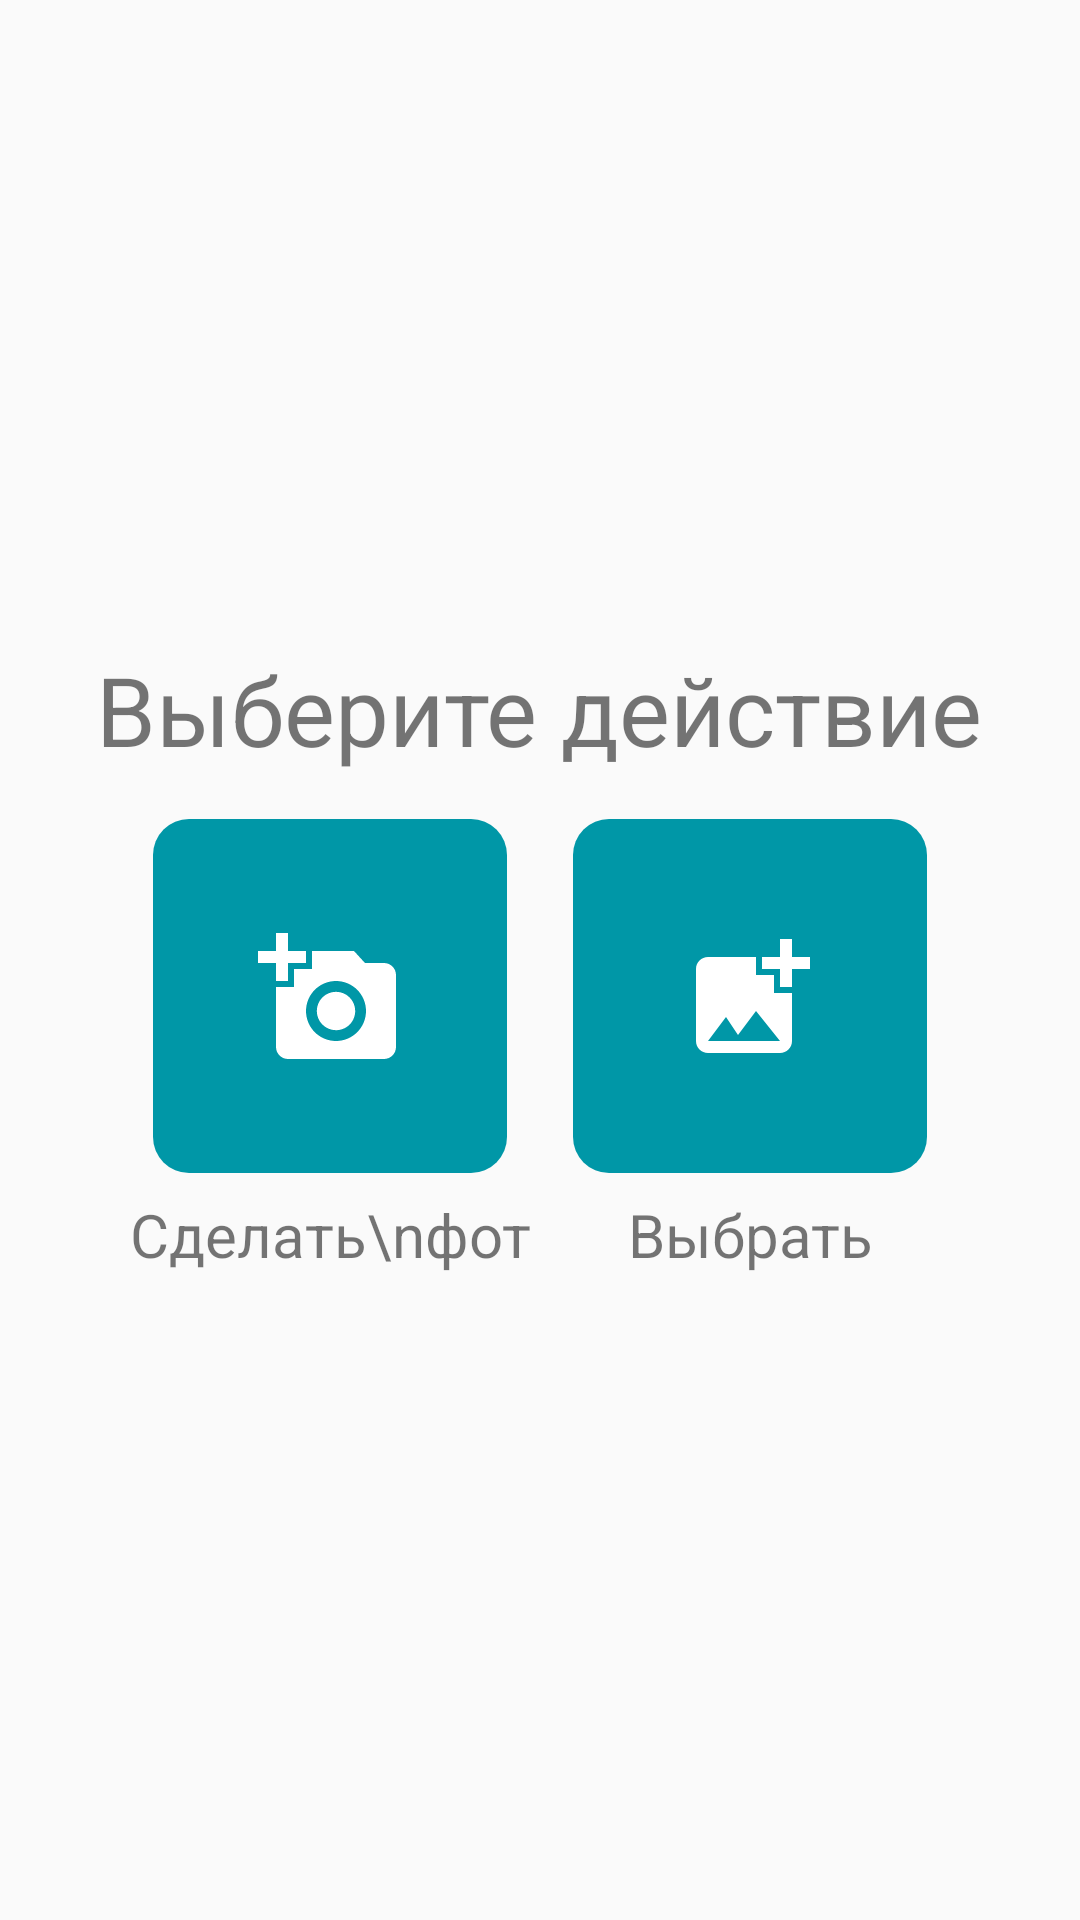

Icon bounding boxes for this 1080×1920 phone screenshot, format (x1, y1, x2, y2):
add photo: (153, 819, 507, 1173)
add photo alternate: (573, 819, 927, 1173)
